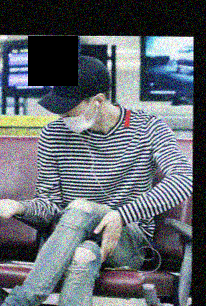mask_weared_incorrect: (58, 98, 95, 135)
